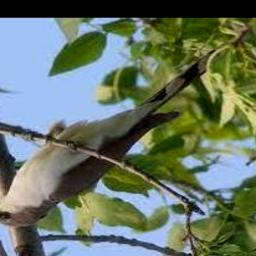Cuckoo: (0, 48, 224, 227)
